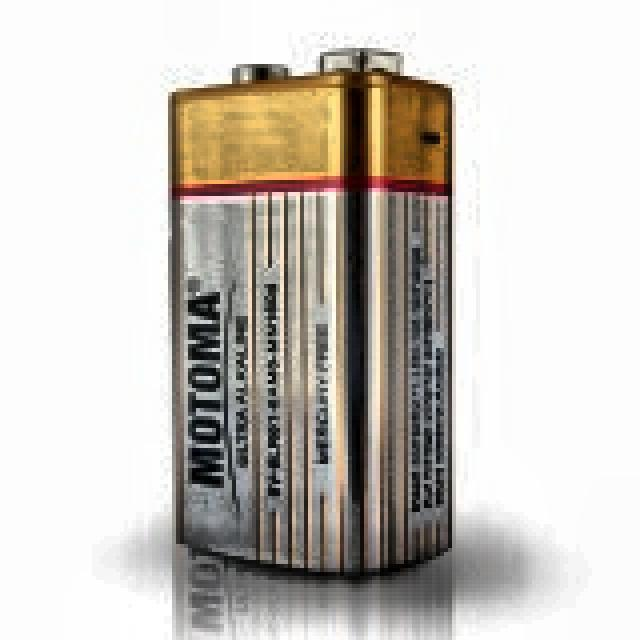Non-Valuable Waste - Batteries: (171, 50, 451, 573)
